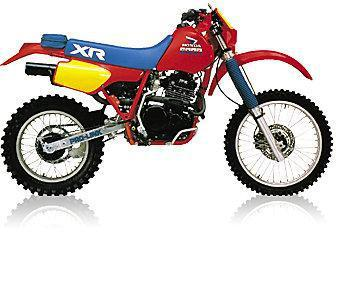motorcycle: (1, 2, 337, 209)
